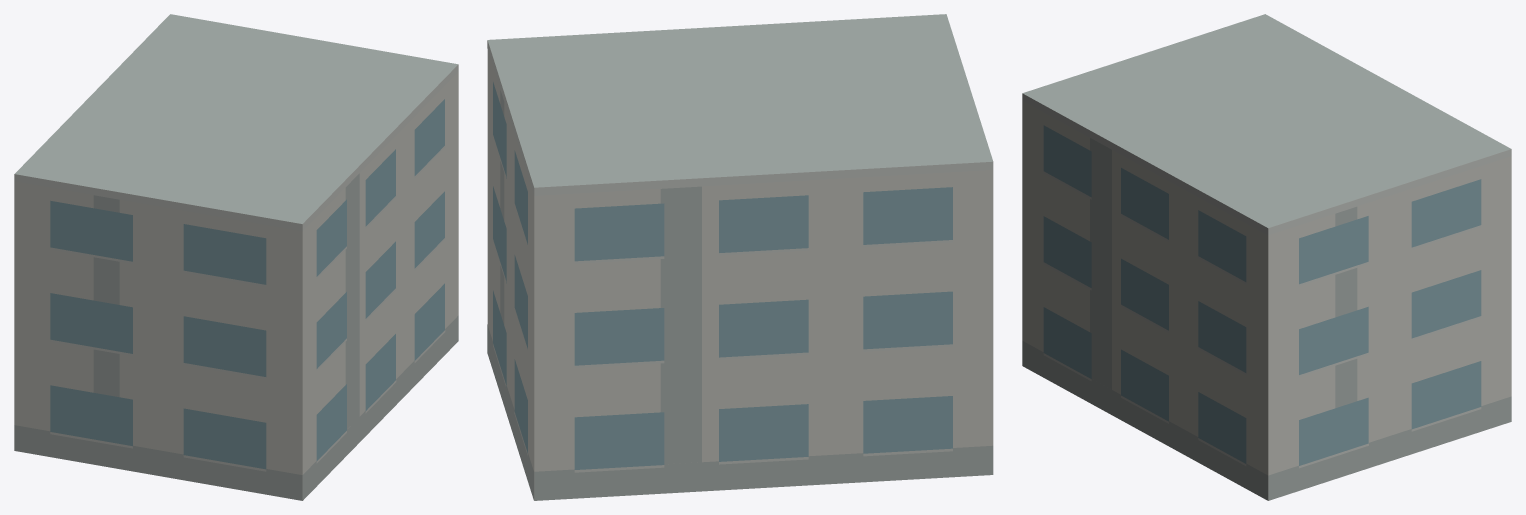
File: residential-000c4a08-e0fb-4758-b9ce-dfec0a77667e.glb
3 renders of one model, left to right at view 1: azimuth 30°, elevation 25°; view 2: azimuth 150°, elevation 25°; view 3: azimuth 270°, elevation 25°, orthographic. The views are drawn at different scales.
Parts seen in each view (by area): view 1: residential-000c4a08-e0fb-4758-b9ce-dfec0a77667e.tmp; view 2: residential-000c4a08-e0fb-4758-b9ce-dfec0a77667e.tmp; view 3: residential-000c4a08-e0fb-4758-b9ce-dfec0a77667e.tmp.
Part boxes in pixels (x1,y1,x2,y2): residential-000c4a08-e0fb-4758-b9ce-dfec0a77667e.tmp: (14, 14, 458, 500); residential-000c4a08-e0fb-4758-b9ce-dfec0a77667e.tmp: (487, 14, 993, 500); residential-000c4a08-e0fb-4758-b9ce-dfec0a77667e.tmp: (1022, 14, 1511, 500).
Size of the model in its own units: 15.43 by 9.15 by 14.89.
